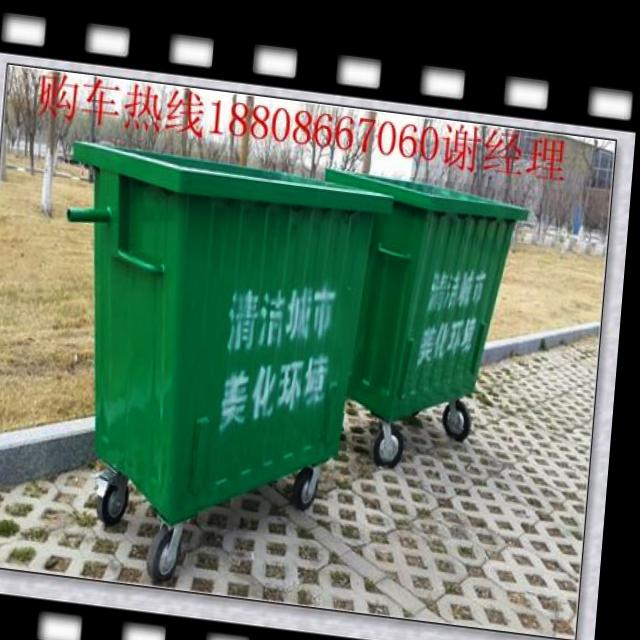garbage_bin: (50, 134, 396, 536), (312, 157, 534, 420)
